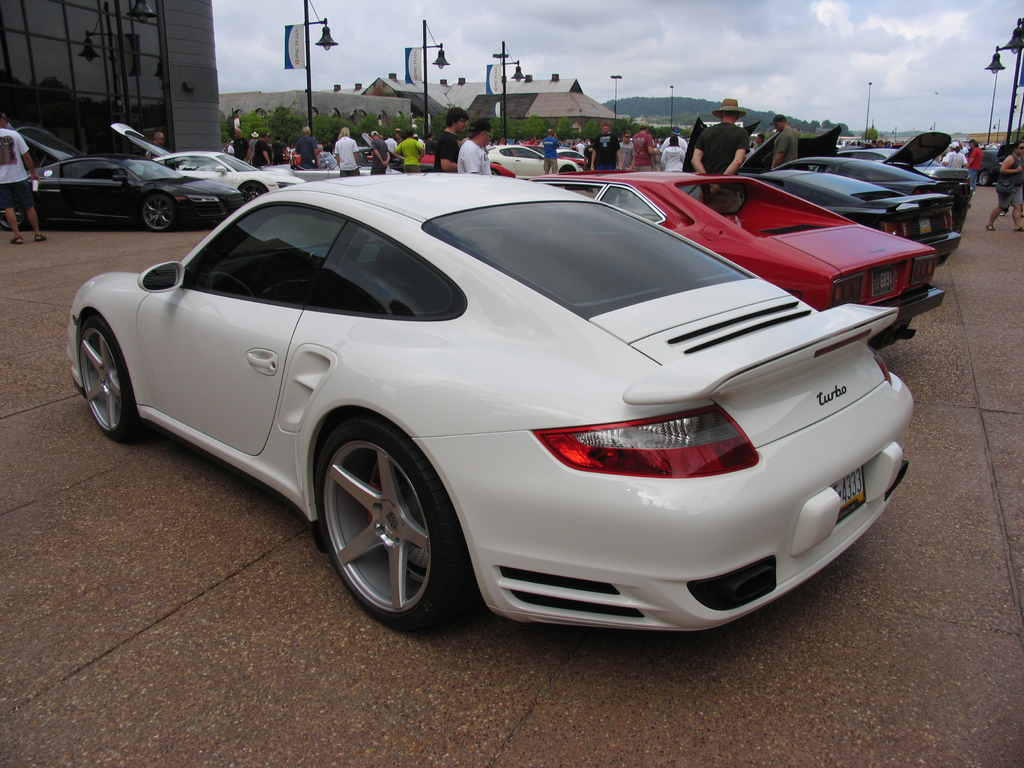Car: (66, 124, 971, 633), (0, 118, 586, 231), (976, 149, 1004, 184)
